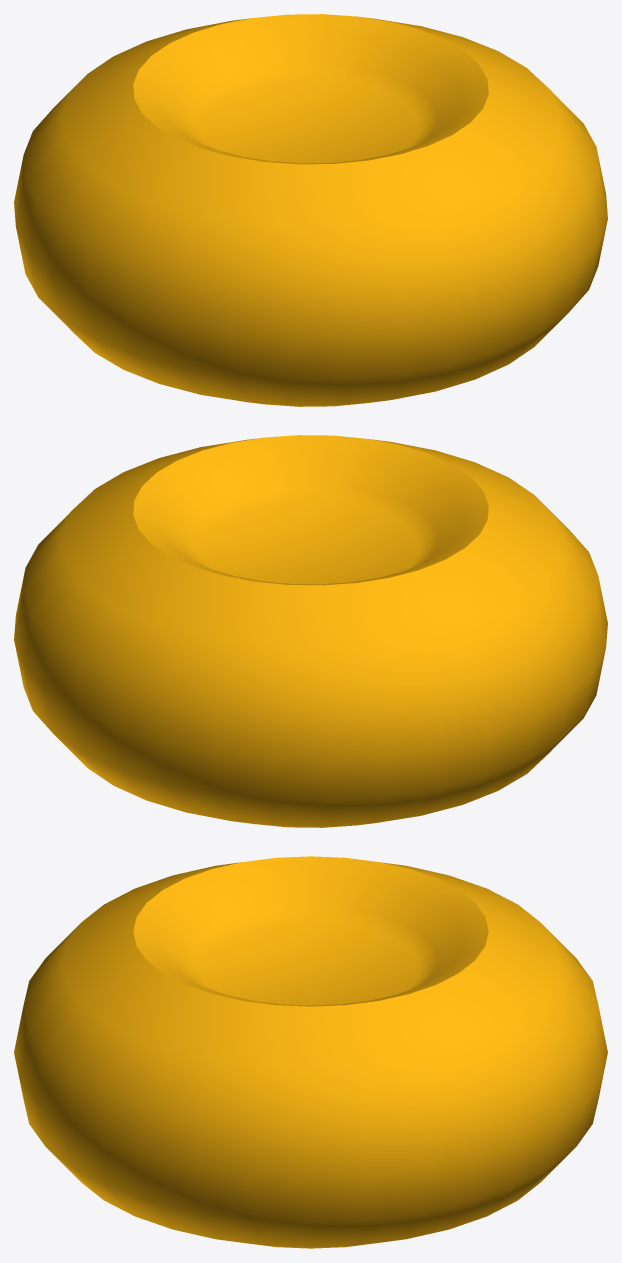
The model's file is circle.yellow.fbx.
3 views of the same model, one above another, from view 1: azimuth 30°, elevation 25°; view 2: azimuth 150°, elevation 25°; view 3: azimuth 270°, elevation 25° (orthographic).
Parts seen in each view (by area): view 1: Circle.yellow; view 2: Circle.yellow; view 3: Circle.yellow.
Part boxes in pixels (left/top/right/bottom): Circle.yellow: left=14, top=14, right=607, bottom=406; Circle.yellow: left=14, top=435, right=607, bottom=827; Circle.yellow: left=14, top=856, right=607, bottom=1248.
Size of the model in its own units: 33.73 by 15.16 by 33.73.
